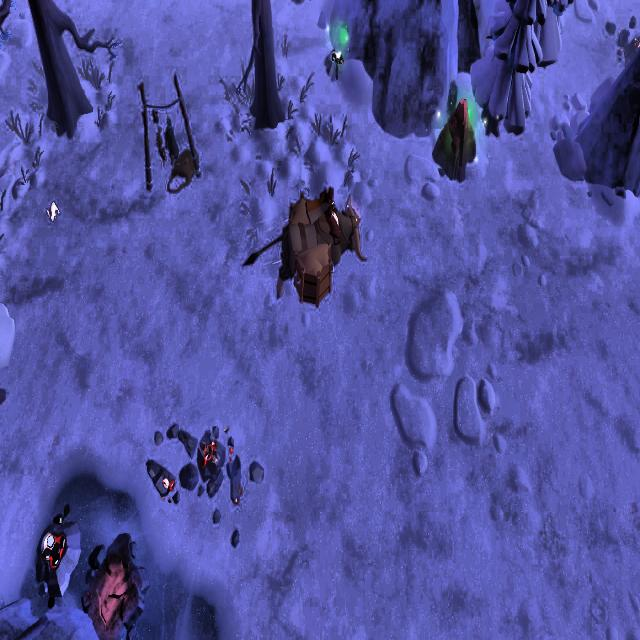rock_t5: (433, 96, 477, 182)
